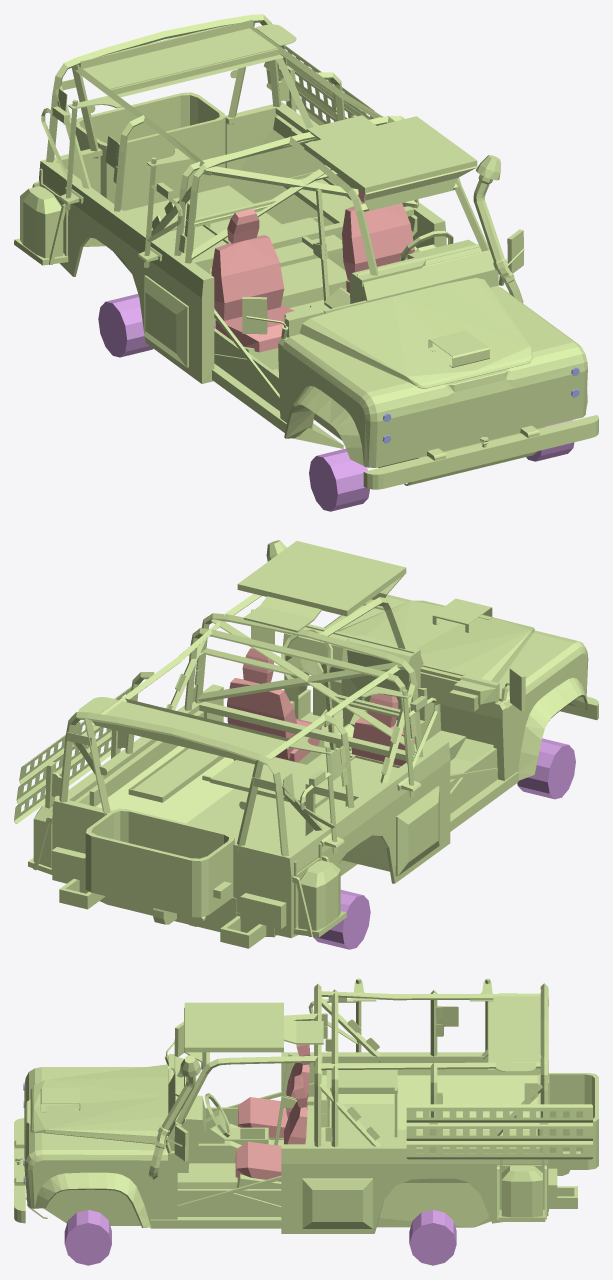
Rendered from land-wheeled-whl-08-default--wheels-destroyed.glb.
The picture shows the model from 3 angles, top to bottom: view 1: azimuth 30°, elevation 25°; view 2: azimuth 150°, elevation 25°; view 3: azimuth 270°, elevation 25°; orthographic projection. The views are drawn at different scales.
Visible parts, largest first — view 1: CC_WHL_08_Body, CC_WHL_08_Wheel_FR_Destroyed_1, CC_WHL_08_Wheel_FR_Destroyed_3; view 2: CC_WHL_08_Body, CC_WHL_08_Wheel_FR_Destroyed_1, CC_WHL_08_Wheel_FR_Destroyed_3; view 3: CC_WHL_08_Body, CC_WHL_08_Wheel_FR_Destroyed_0, CC_WHL_08_Wheel_FR_Destroyed_2.
Boxes of the visible parts, x1,y1,x2,y2 form: CC_WHL_08_Body: (14,14,598,489); CC_WHL_08_Wheel_FR_Destroyed_1: (309,448,369,511); CC_WHL_08_Wheel_FR_Destroyed_3: (98,294,153,357); CC_WHL_08_Body: (14,540,598,948); CC_WHL_08_Wheel_FR_Destroyed_1: (517,738,575,799); CC_WHL_08_Wheel_FR_Destroyed_3: (313,889,370,949); CC_WHL_08_Body: (14,978,598,1233); CC_WHL_08_Wheel_FR_Destroyed_0: (64,1210,111,1265); CC_WHL_08_Wheel_FR_Destroyed_2: (409,1210,456,1265).
Size of the model in its own units: 2.39 by 1.95 by 4.96.
